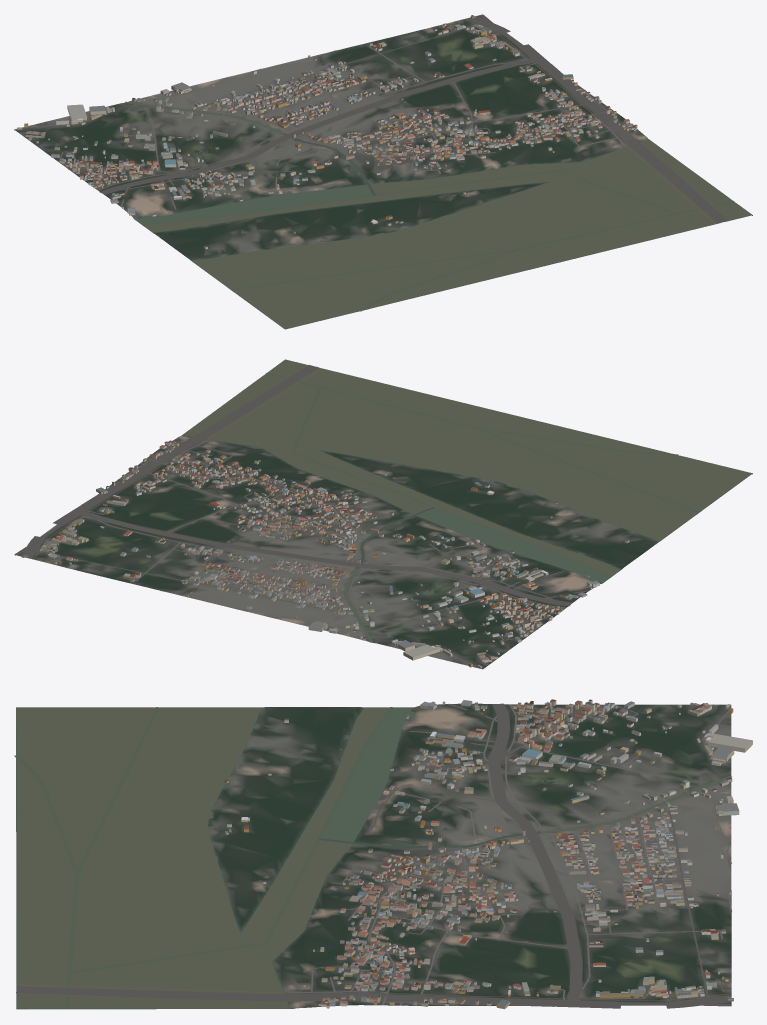
3 views of the same model, one above another, from view 1: azimuth 30°, elevation 25°; view 2: azimuth 150°, elevation 25°; view 3: azimuth 270°, elevation 25° (orthographic). The views are drawn at different scales.
Parts seen in each view (by area): view 1: ground, water, buildings, roads; view 2: ground, water, buildings, roads; view 3: ground, water, buildings, roads.
Part boxes in pixels (<box>): ground: <box>14,15,752,329</box>; water: <box>125,101,751,328</box>; buildings: <box>17,15,637,249</box>; roads: <box>20,14,729,223</box>; ground: <box>15,360,752,669</box>; water: <box>183,359,751,642</box>; buildings: <box>22,440,629,668</box>; roads: <box>14,365,589,667</box>; ground: <box>16,703,731,1009</box>; water: <box>14,707,731,1008</box>; buildings: <box>224,699,752,1009</box>; roads: <box>16,703,733,1008</box>.
Bounding box in the file's own units: 1424 × 25.91 × 1448.
